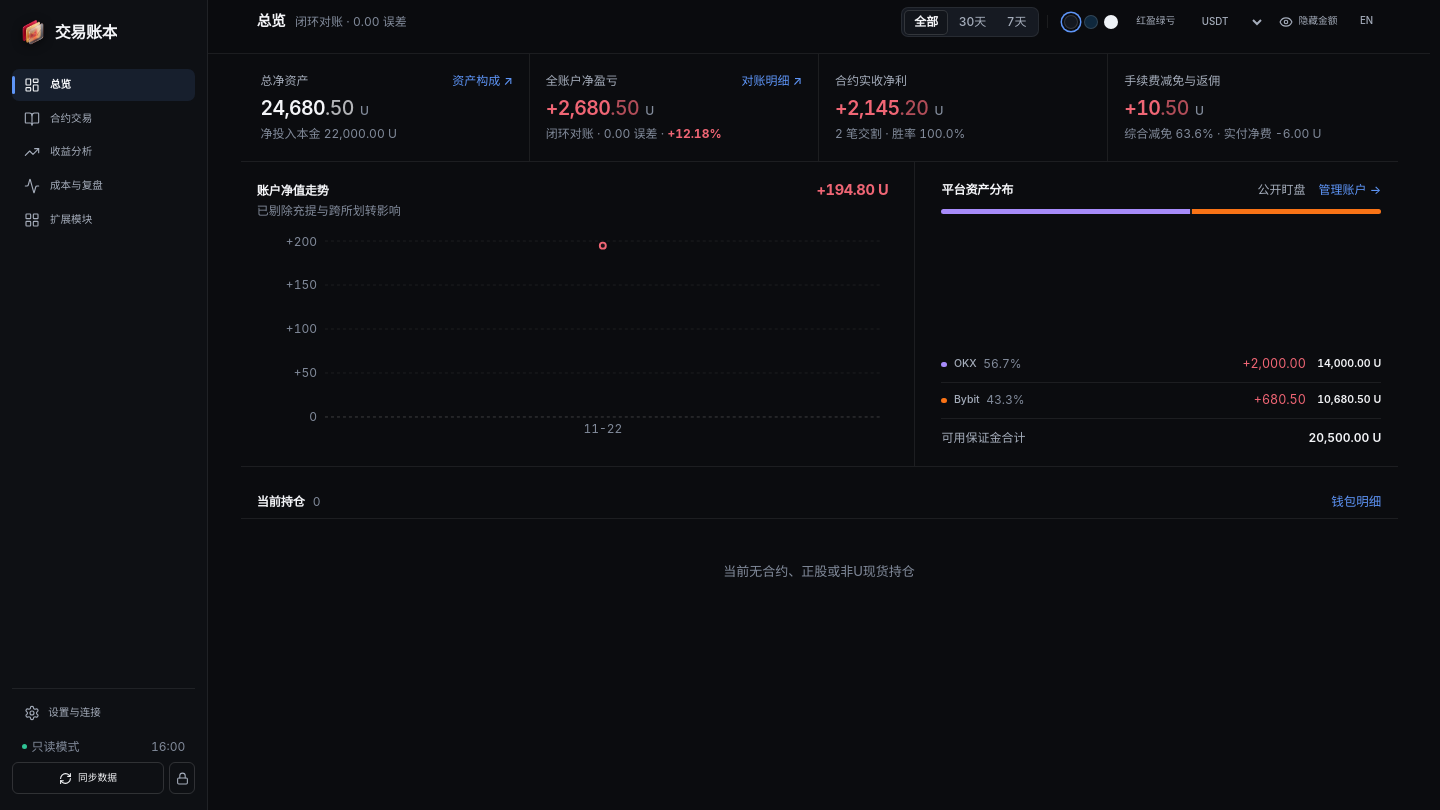
it: ledger access and settings races › keeps the last currency selection visible and persisted after a slow first write
Expected: the button with test id "kpi-equity" is shown, [240,54,530,161]
Select "CNY ¥" in the dropdown with test id "currency-selector": (1227, 22) [1190,7,1265,37]
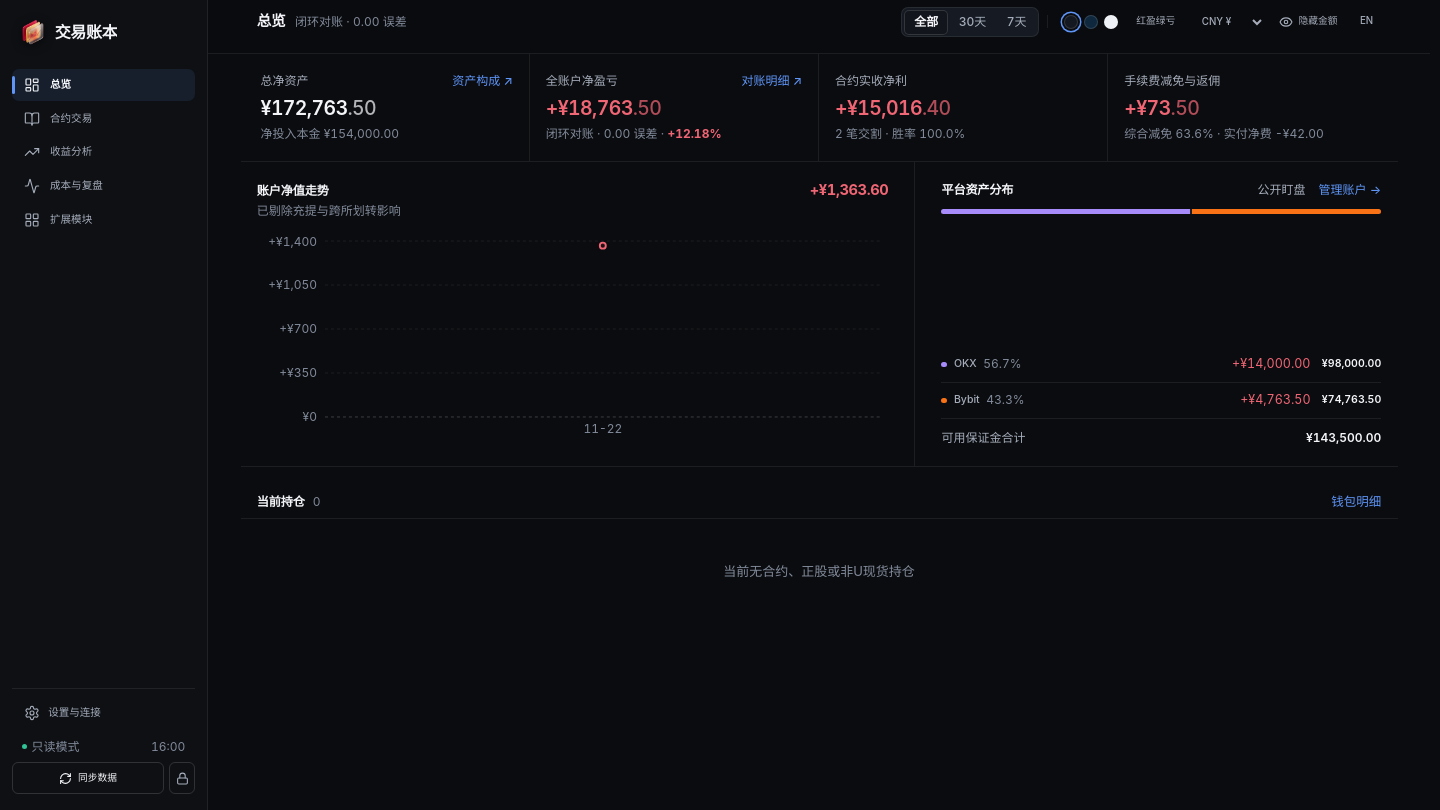
Select "EUR €" in the dropdown with test id "currency-selector": (1227, 22) [1190,7,1265,37]
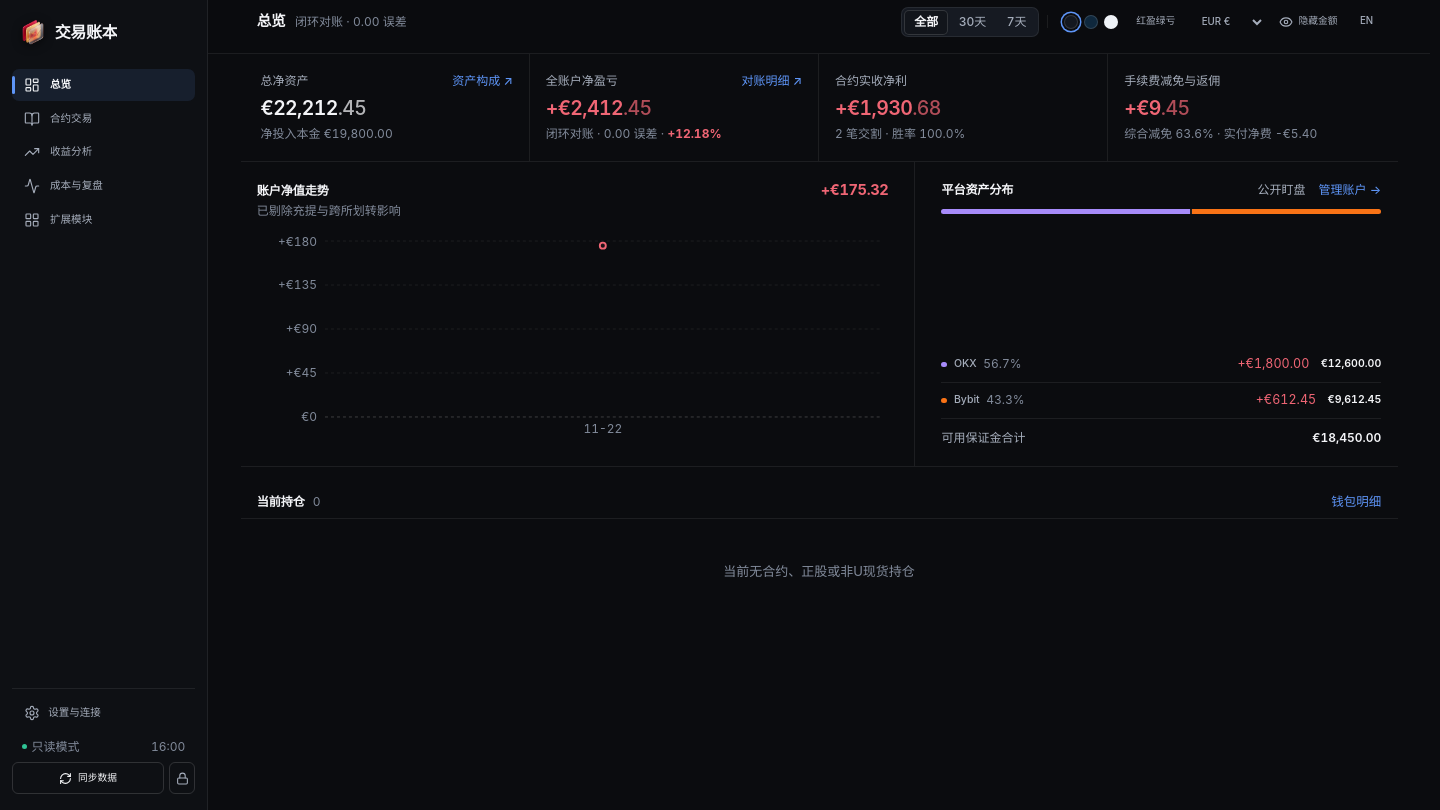
Expected: the button with test id "kpi-equity" shows "€", [240,54,530,161]
